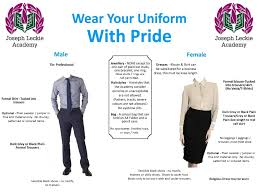F_dress pants: (56, 108, 91, 169)
F_shirt: (173, 72, 219, 134), (47, 73, 93, 117)
F_tailored skirt: (179, 104, 215, 166)
